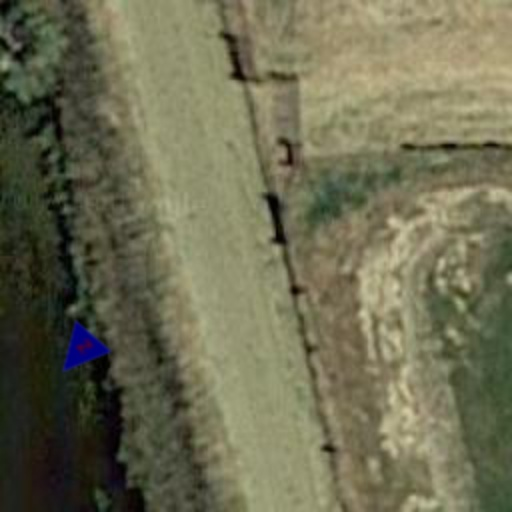triangle: (42, 318, 114, 390)
